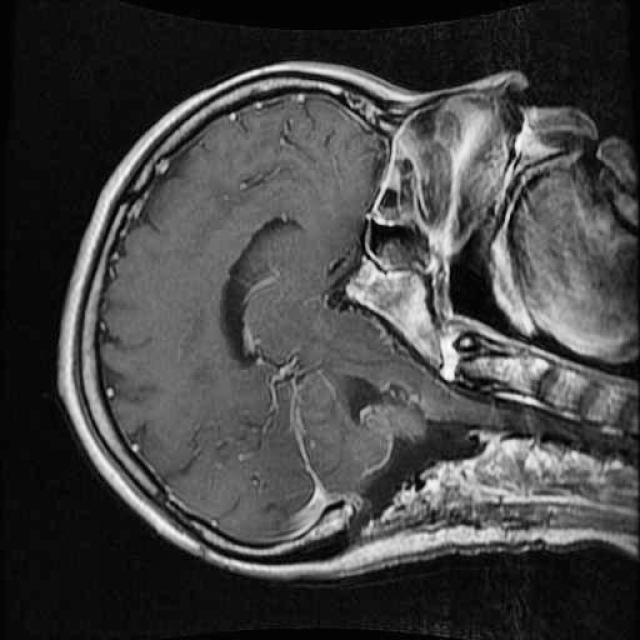Tumor: (306, 335, 422, 450)
